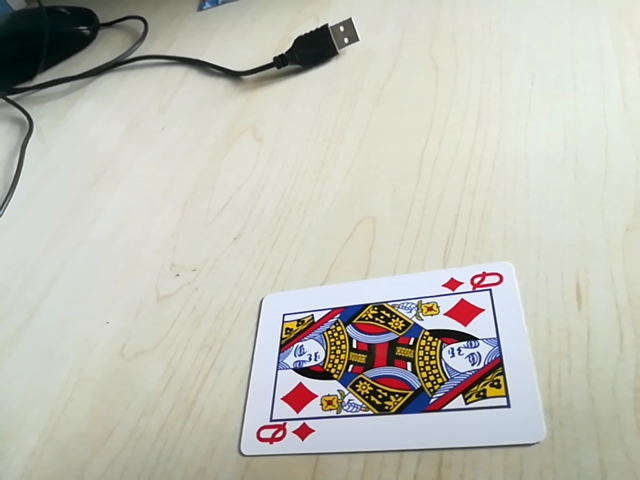fk q: (251, 419, 313, 452), (443, 267, 507, 295)
